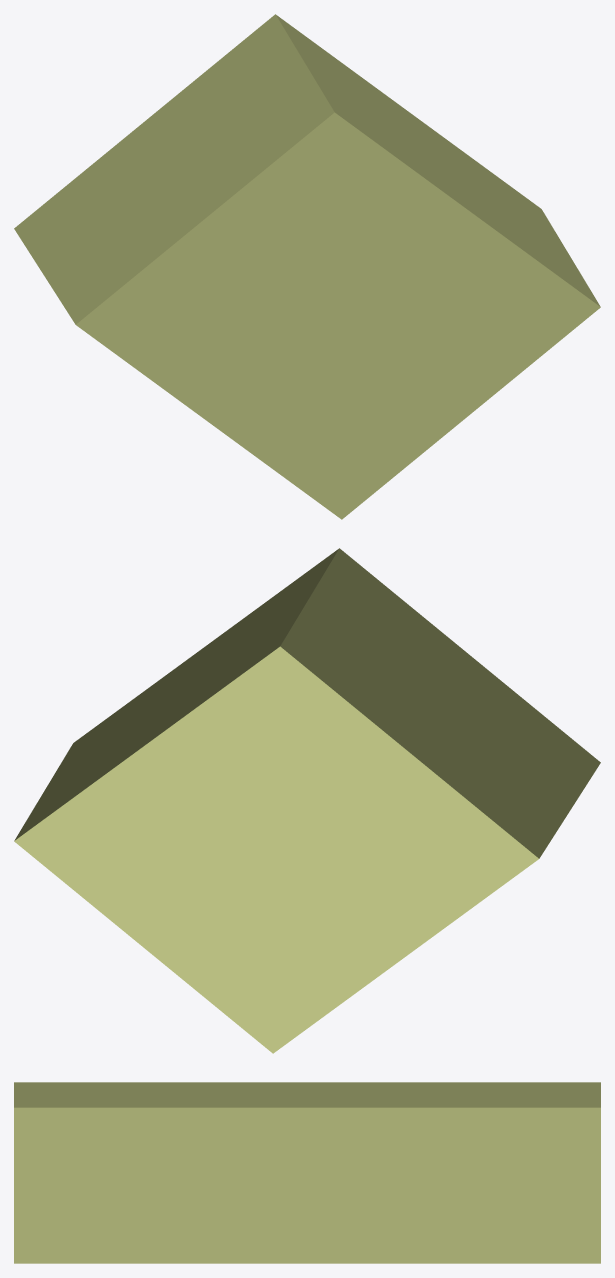
3 views of the same model, one above another, from view 1: azimuth 30°, elevation 25°; view 2: azimuth 150°, elevation 25°; view 3: azimuth 270°, elevation 25° (orthographic). The views are drawn at different scales.
Parts seen in each view (by area): view 1: 0_1_1_3_2_2_3_3_1_0_2; view 2: 0_1_1_3_2_2_3_3_1_0_2; view 3: 0_1_1_3_2_2_3_3_1_0_2.
Part boxes in pixels (x1,y1,x2,y2): 0_1_1_3_2_2_3_3_1_0_2: [14, 14, 600, 519]; 0_1_1_3_2_2_3_3_1_0_2: [14, 548, 600, 1053]; 0_1_1_3_2_2_3_3_1_0_2: [14, 1082, 600, 1263].
Bounding box in the file's own units: 6.26 × 4.89 × 9.
